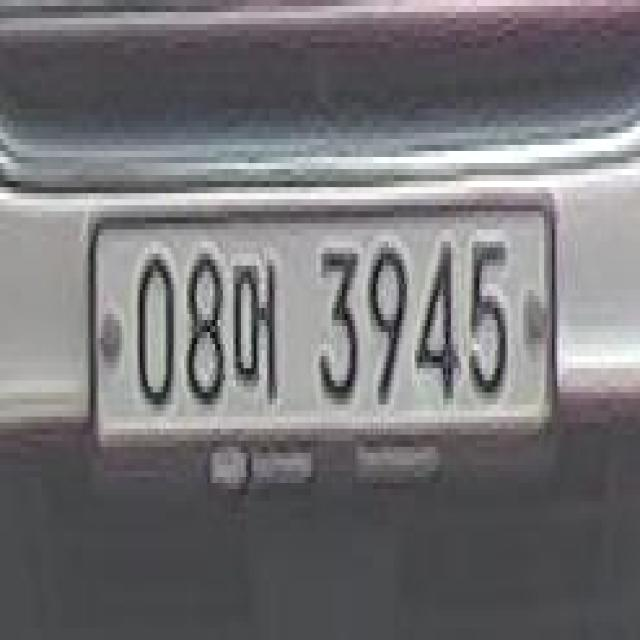illegal_plate: (89, 181, 555, 481)
